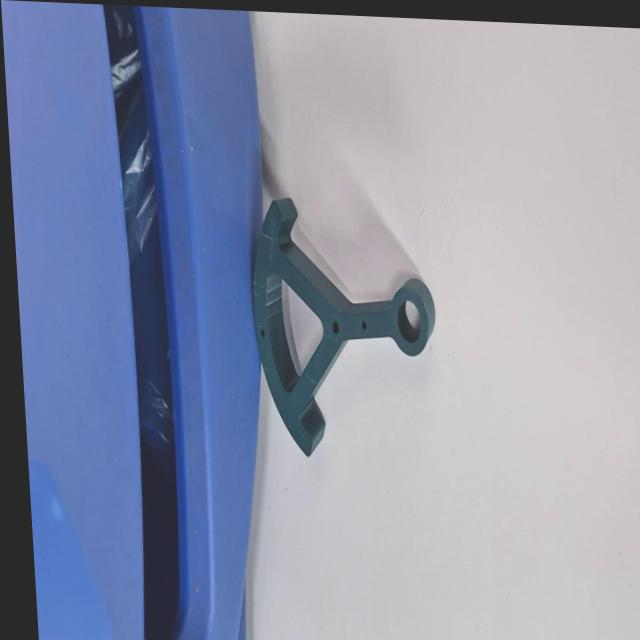haptic: (245, 194, 444, 464)
